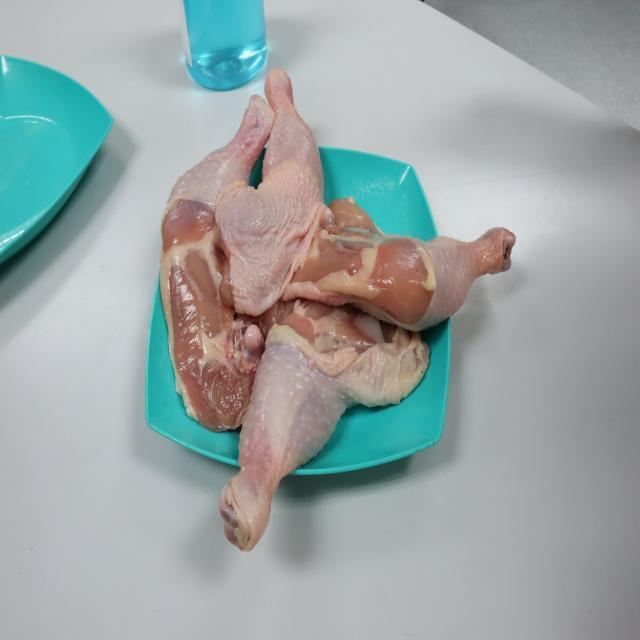quater: (227, 293, 399, 548), (153, 93, 266, 411), (314, 202, 532, 331), (216, 68, 328, 286)
